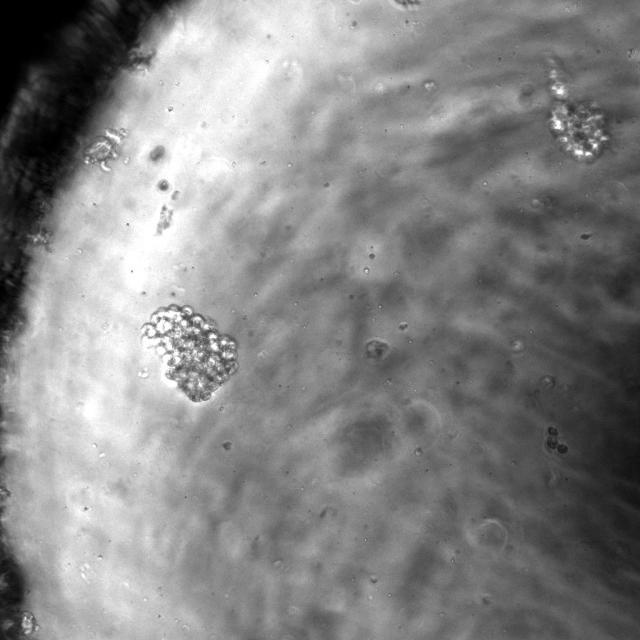organoid: (141, 304, 237, 401), (548, 60, 609, 161), (546, 425, 568, 454)
